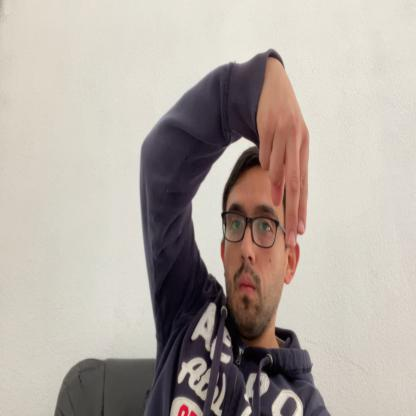N: (256, 49, 311, 251)
